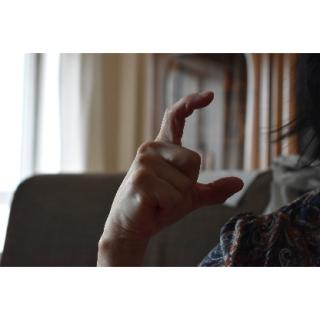DELL: (100, 90, 246, 248)
